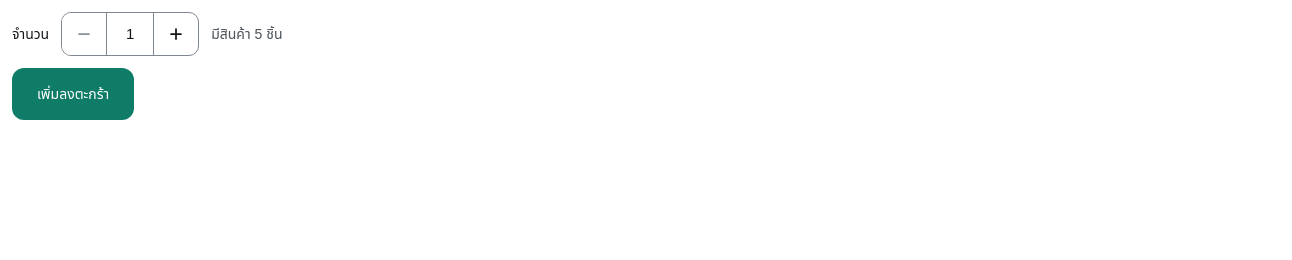
Test: AddToCart › sends only the product id and the quantity, then confirms with a cart link
Click the button named "เพิ่มจำนวน" at (176, 34), box [154, 13, 198, 55]
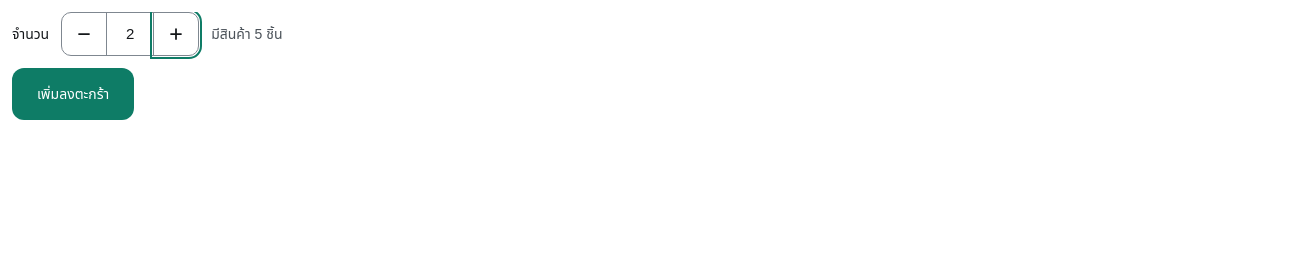
Click the button "เพิ่มลงตะกร้า" at (73, 94), box [12, 68, 134, 120]
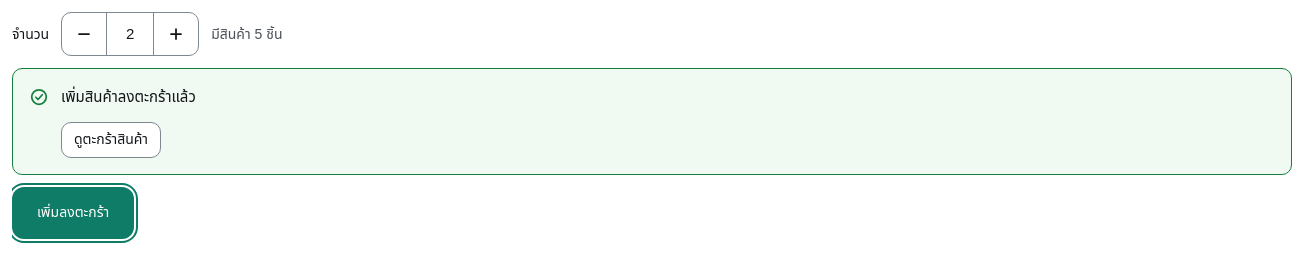
Expected: the text "เพิ่มสินค้าลงตะกร้าแล้ว" is shown, [61, 88, 196, 105]
